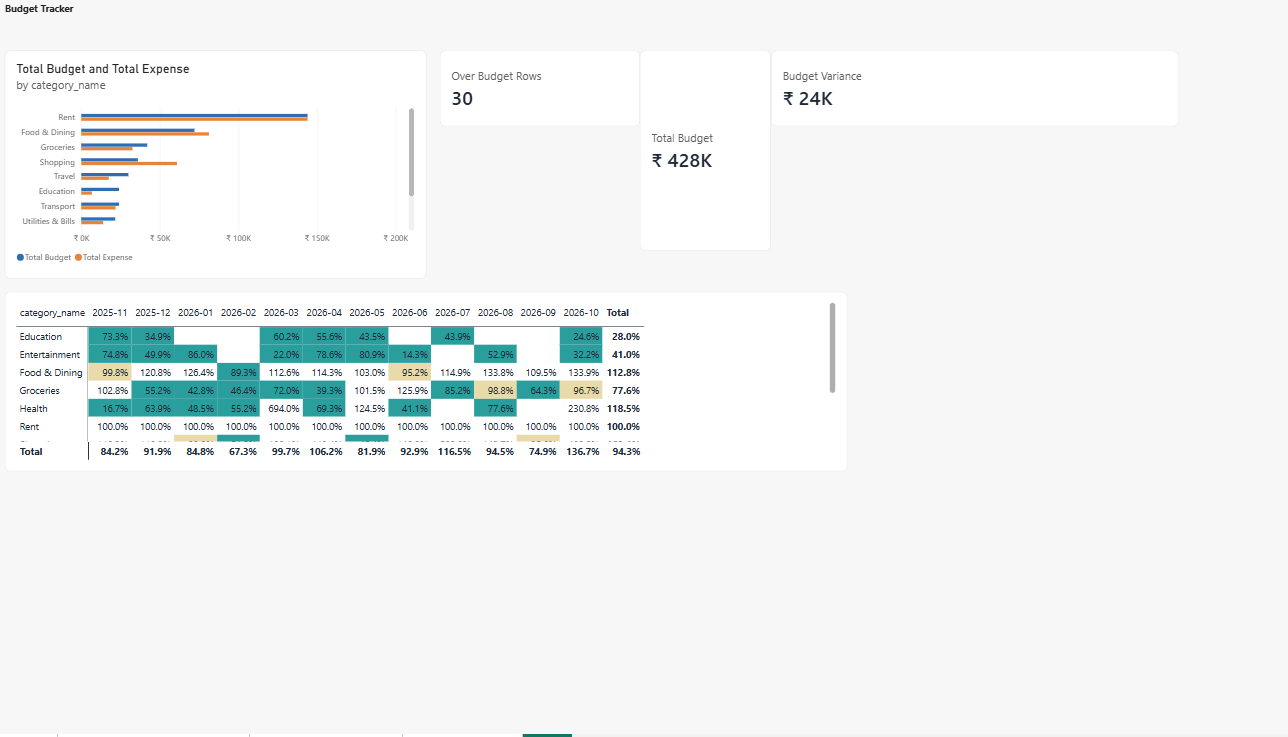

Layout of this report page (visuals, bound fields, positions):
{"tool":"powerbi","page":{"name":"Budget Tracker","canvas":[1920,1080],"ordinal":2},"visuals":[{"type":"clusteredBarChart","fields":{"Category":["Category.category_name"],"Y":["Measures (2).Total Budget","Measures (2).Total Expense"]},"box":[20,90,610,330],"z":0},{"type":"pivotTable","fields":{"Columns":["Calendar.year_month"],"Rows":["Category.category_name"],"Values":["Measures (2).Budget Utilisation %"]},"box":[20,440,1220,260],"z":1000},{"type":"cardVisual","fields":{"Data":["Measures (2).Over Budget Rows"]},"box":[650,90,290,110],"z":2000},{"type":"cardVisual","fields":{"Data":["Measures (2).Total Budget"]},"box":[940,90,190,290],"z":3000},{"type":"cardVisual","fields":{"Data":["Measures (2).Budget Variance"]},"box":[1130,90,590,110],"z":4000},{"type":"textbox","box":[20,20,1220,260],"z":5000}]}

Visuals, with their boxes in screenshot pixels (x1, y1, x2, y2), scaled from the page's 1920x1080 canvas onto the 1288x737 screenshot:
clusteredBarChart - Category.category_name x Measures (2).Total Budget: [13,61,423,287]
pivotTable - Calendar.year_month x Category.category_name: [13,300,832,478]
cardVisual - Measures (2).Over Budget Rows: [436,61,631,136]
cardVisual - Measures (2).Total Budget: [631,61,758,259]
cardVisual - Measures (2).Budget Variance: [758,61,1154,136]
textbox: [13,14,832,191]
